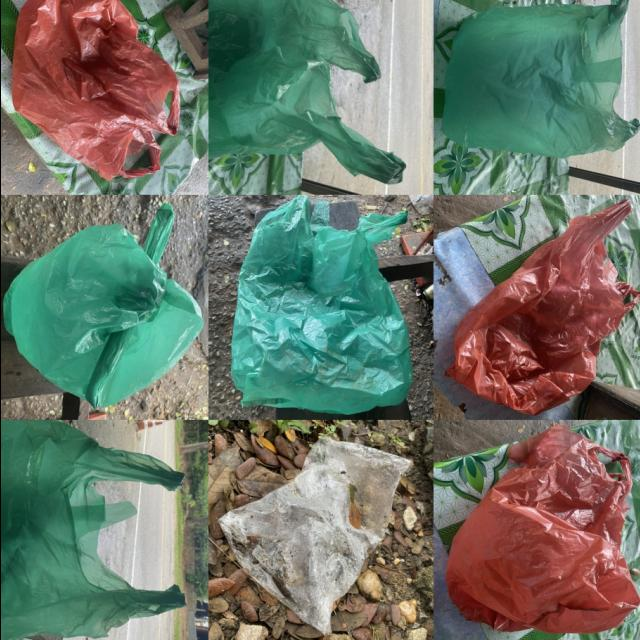plastik: (445, 199, 640, 415), (3, 204, 201, 408), (445, 425, 639, 633), (0, 421, 183, 640), (230, 195, 411, 414), (218, 438, 410, 633), (209, 0, 404, 183), (441, 0, 639, 157), (11, 0, 179, 181)
